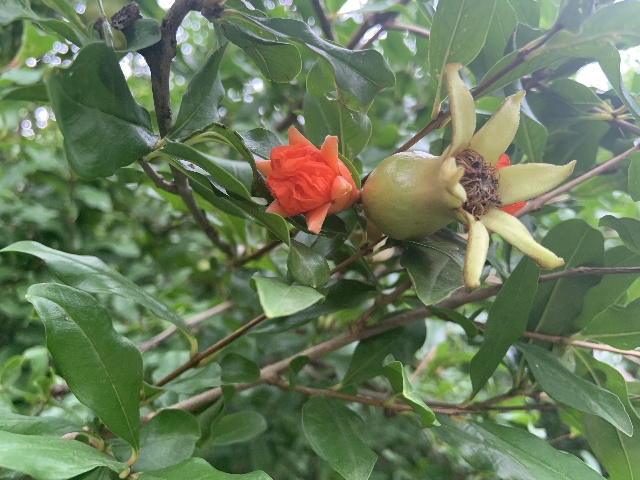early-fruit: (362, 62, 577, 287)
flower: (255, 125, 358, 233)
